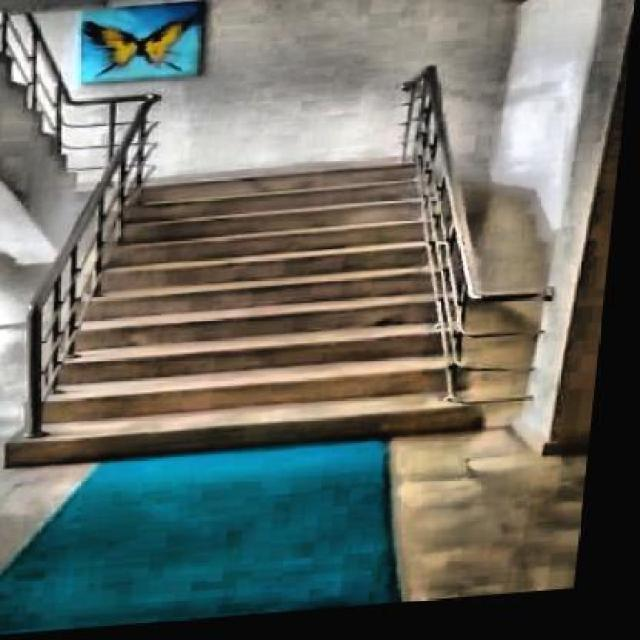stair: (6, 168, 512, 477)
